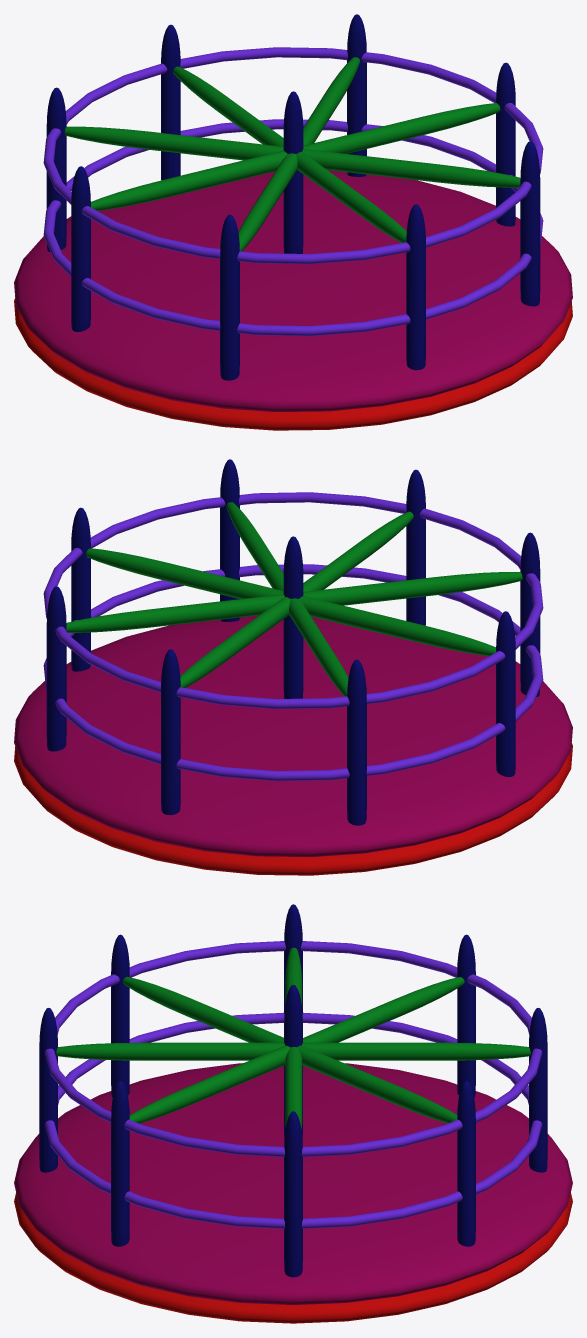
The model's file is Merry_Go_Round(1).fbx.
3 renders of one model, top to bottom at view 1: azimuth 30°, elevation 25°; view 2: azimuth 150°, elevation 25°; view 3: azimuth 270°, elevation 25°, orthographic.
Parts seen in each view (by area): view 1: Sphere006; view 2: Sphere006; view 3: Sphere006.
Part boxes in pixels (left/top/right/bottom): Sphere006: left=14, top=14, right=572, bottom=430; Sphere006: left=14, top=459, right=572, bottom=875; Sphere006: left=14, top=904, right=572, bottom=1323.
Bounding box in the file's own units: 191 × 93.87 × 191.
